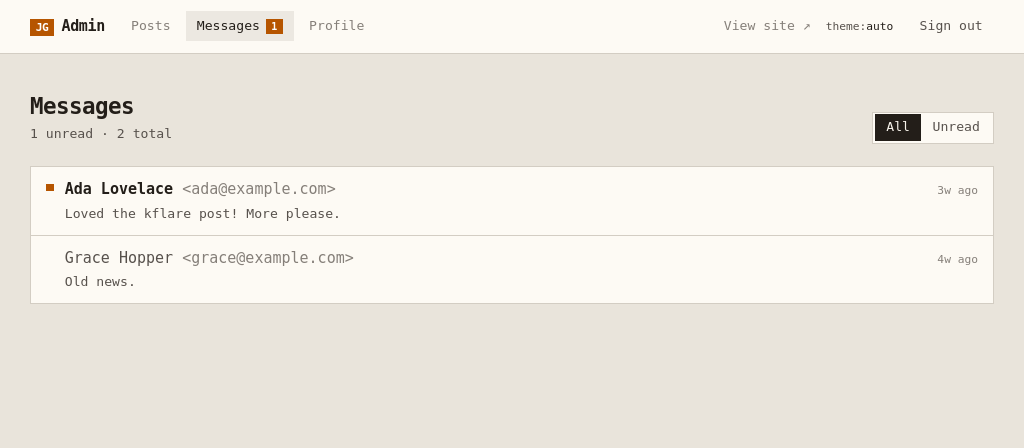
it: admin messages inbox › opening an unread message marks it read and offers a reply link
This screenshot has width=1024, height=448.
What coordinates should you click on to do the following:
click the button "Ada Lovelace"
I would click on:
 (119, 189)
Its box is [31, 167, 993, 234].
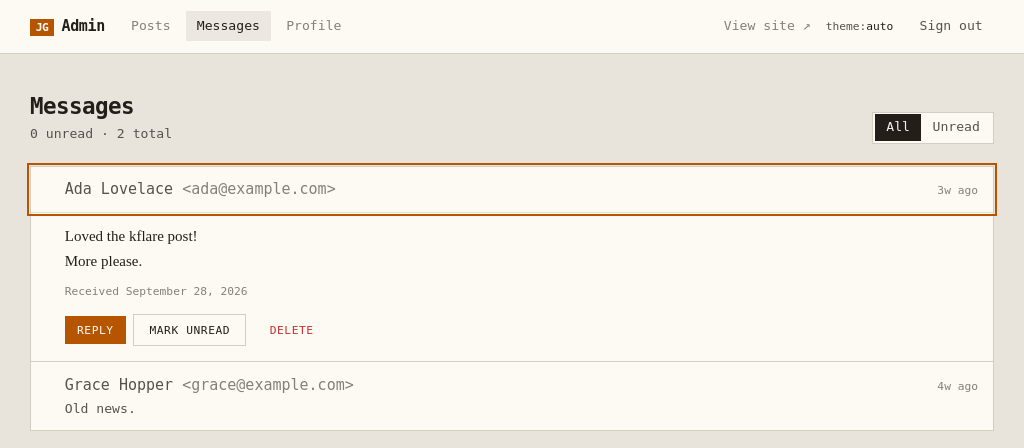
Expected: the text "Loved the kflare post! More please." is shown, [65, 228, 198, 269]
Result: the text labelled "1 unread" is gone
